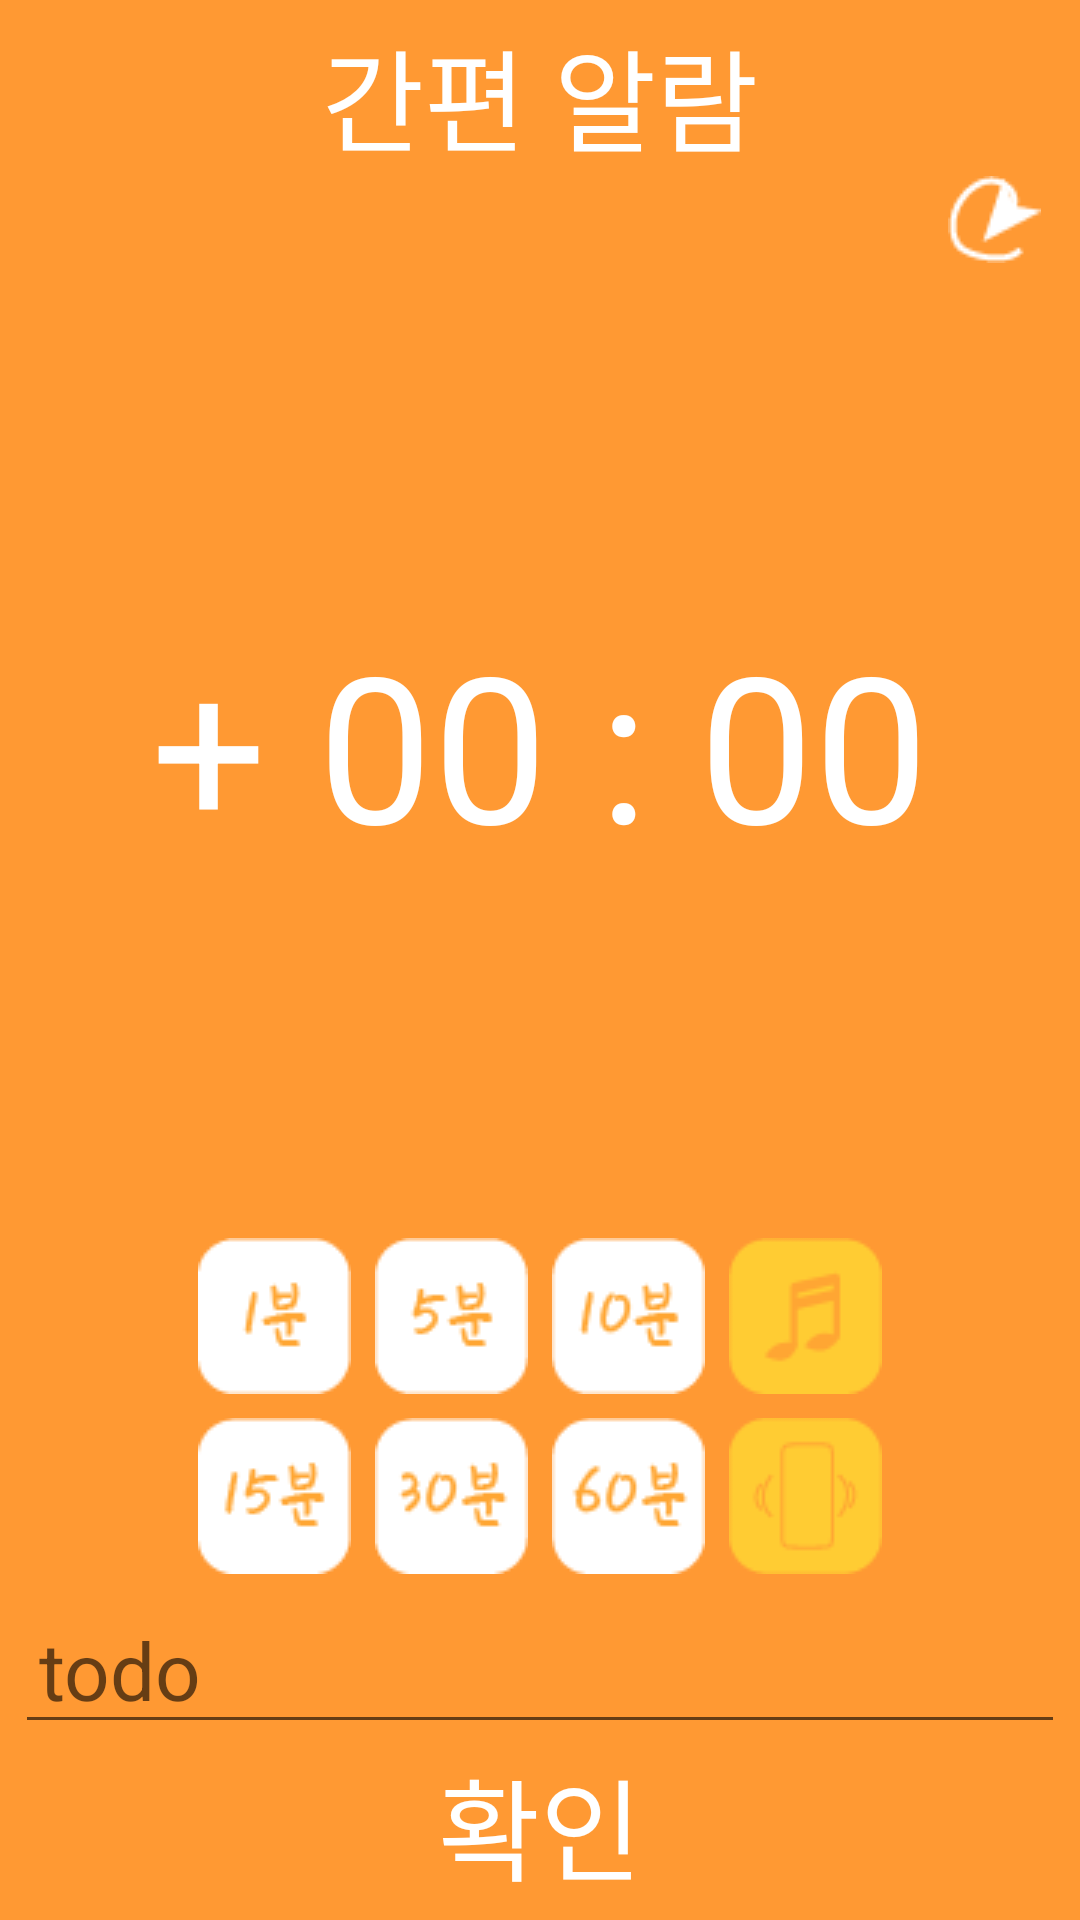

Screen size 1080*1920. Icon name, then its center in pixels as (x,y):
reset: (994,219)
ring en: (805,1316)
vibrate en: (805,1496)
